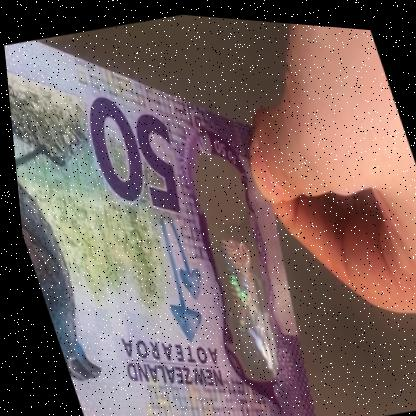50B: (174, 153, 290, 378)
